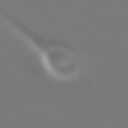normal: (1, 1, 48, 54)
